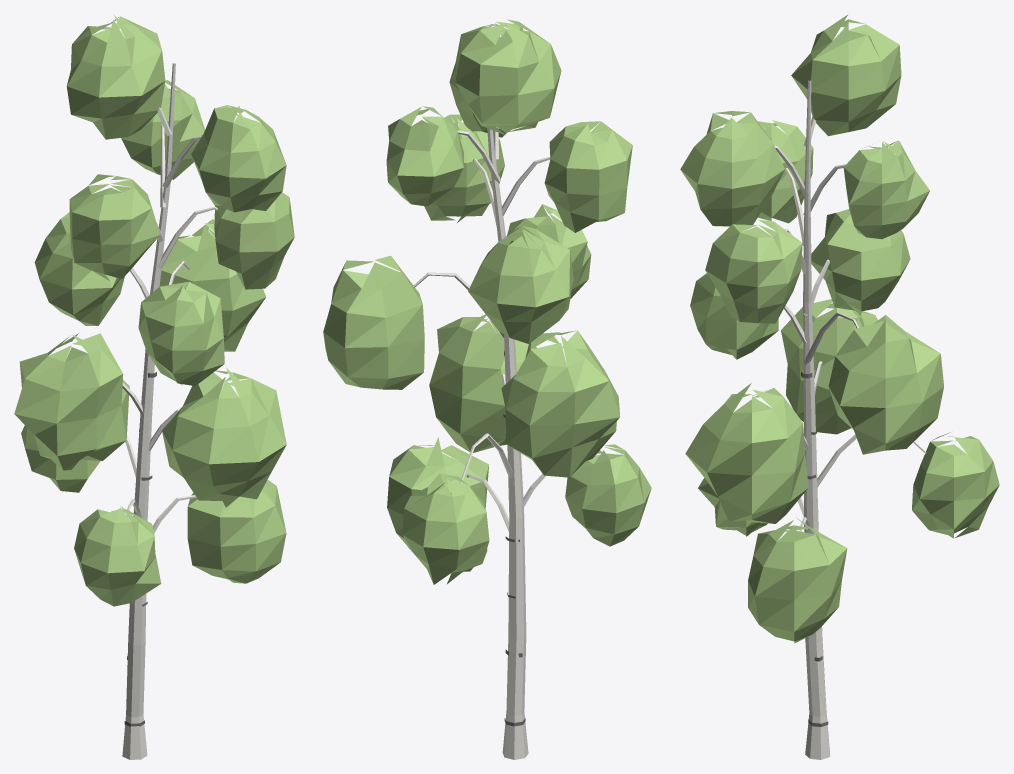
Rendered from treeBirch.glb.
The picture shows the model from 3 angles, left to right: view 1: azimuth 30°, elevation 25°; view 2: azimuth 150°, elevation 25°; view 3: azimuth 270°, elevation 25°; orthographic projection. The views are drawn at different scales.
Parts seen in each view (by area): view 1: silver-birch-mature; view 2: silver-birch-mature; view 3: silver-birch-mature.
Part boxes in pixels (left/top/right/bottom): silver-birch-mature: left=14, top=14, right=294, bottom=759; silver-birch-mature: left=323, top=19, right=651, bottom=759; silver-birch-mature: left=680, top=14, right=999, bottom=759.
Size of the model in its own units: 5.51 by 14.71 by 5.77.
